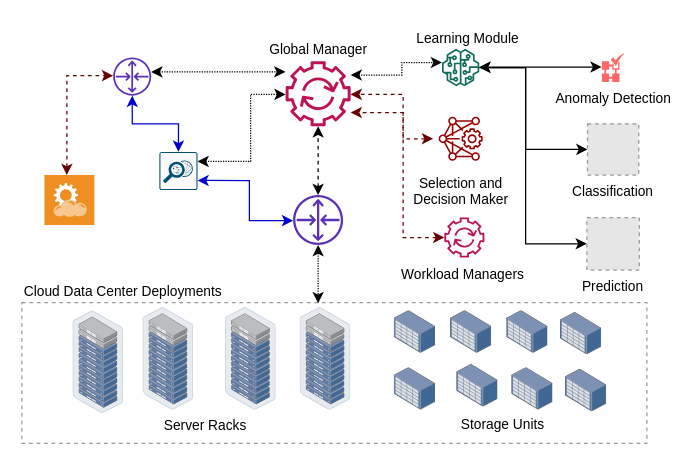
The diagram is 693 pixels wide and 466 high, and some of its shapes have lost their labels. Grey dashed boxes stand in for pictures. Each missing label, with the centre of its shape:
"Monitoring Module" belongs at point 178,170.
"Subscriptions Requests" belongs at point 69,199.
